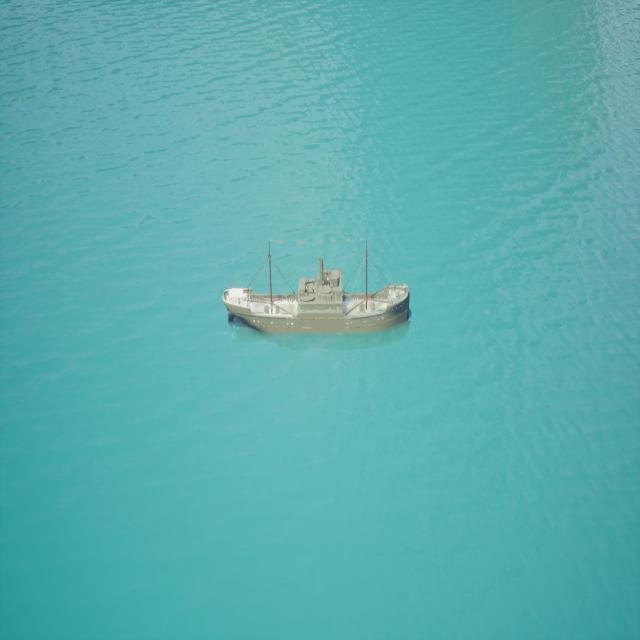fishing ship: (223, 245, 413, 338)
